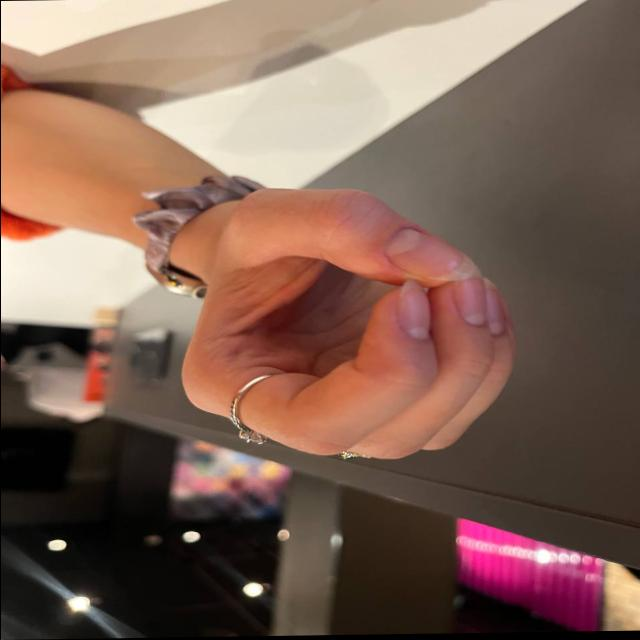e: (167, 146, 533, 478)
